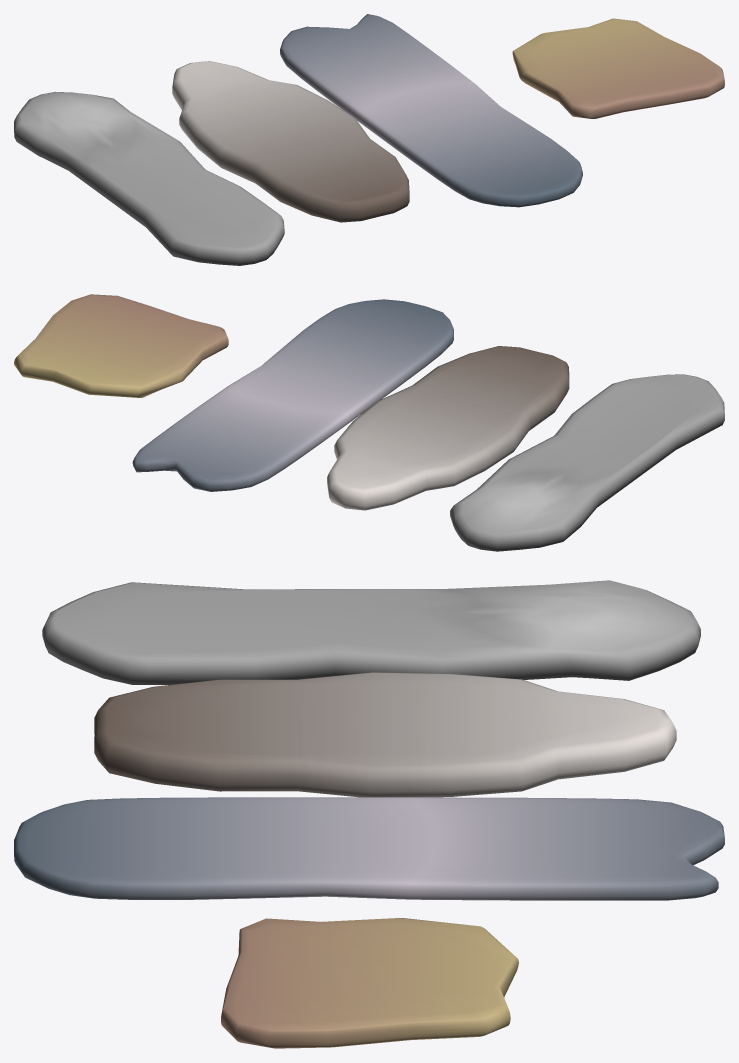
The model's file is proxy stones.fbx.
3 renders of one model, top to bottom at view 1: azimuth 30°, elevation 25°; view 2: azimuth 150°, elevation 25°; view 3: azimuth 270°, elevation 25°, orthographic. The views are drawn at different scales.
Parts seen in each view (by area): view 1: stone_01, stone_03, stone_02, stone_04; view 2: stone_01, stone_03, stone_02, stone_04; view 3: stone_01, stone_03, stone_02, stone_04.
Boxes of the visible parts, box(x1,y1,x2,y2) form: stone_01: box(280, 14, 582, 207); stone_03: box(172, 61, 409, 222); stone_02: box(14, 91, 284, 265); stone_04: box(512, 18, 724, 118); stone_01: box(132, 299, 453, 491); stone_03: box(327, 346, 569, 510); stone_02: box(450, 374, 724, 551); stone_04: box(14, 294, 228, 397); stone_01: box(14, 797, 724, 900); stone_03: box(94, 672, 676, 797); stone_02: box(42, 580, 700, 684); stone_04: box(221, 918, 518, 1048).
Bounding box in the file's own units: 11180 × 433 × 7532.
Materials: 1 (1 with a texture image).
